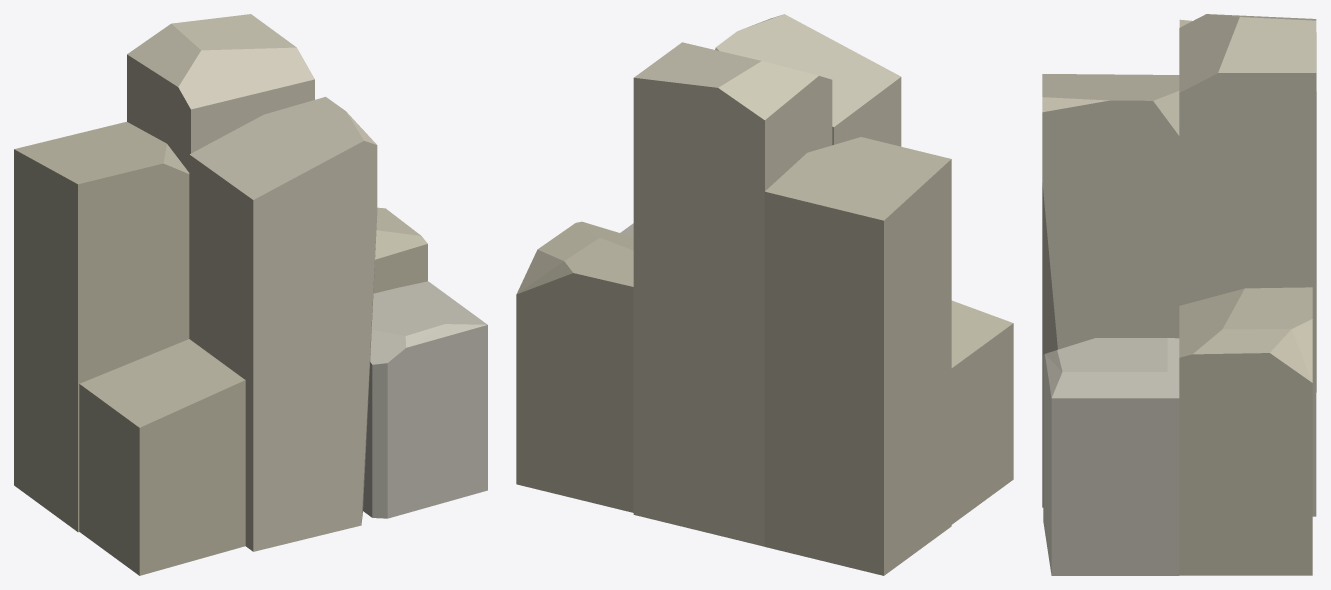
File: Rocks_Square_l_02 2.fbx
The picture shows the model from 3 angles, left to right: view 1: azimuth 30°, elevation 25°; view 2: azimuth 150°, elevation 25°; view 3: azimuth 270°, elevation 25°; orthographic projection. The views are drawn at different scales.
Parts seen in each view (by area): view 1: Rocks_Square_l_02; view 2: Rocks_Square_l_02; view 3: Rocks_Square_l_02.
Boxes of the visible parts, box(x1,y1,x2,y2) form: Rocks_Square_l_02: box(14, 14, 487, 575); Rocks_Square_l_02: box(516, 14, 1013, 575); Rocks_Square_l_02: box(1042, 14, 1316, 575).
Size of the model in its own units: 194 by 225 by 123.
